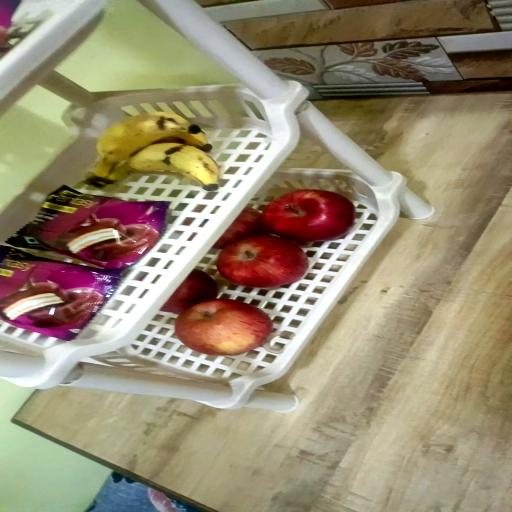Apple: (177, 300, 274, 356), (263, 192, 355, 244), (218, 237, 310, 289), (163, 270, 219, 314), (215, 208, 266, 246)
Choco Pie: (6, 188, 168, 274), (0, 246, 121, 341), (0, 0, 20, 52)
